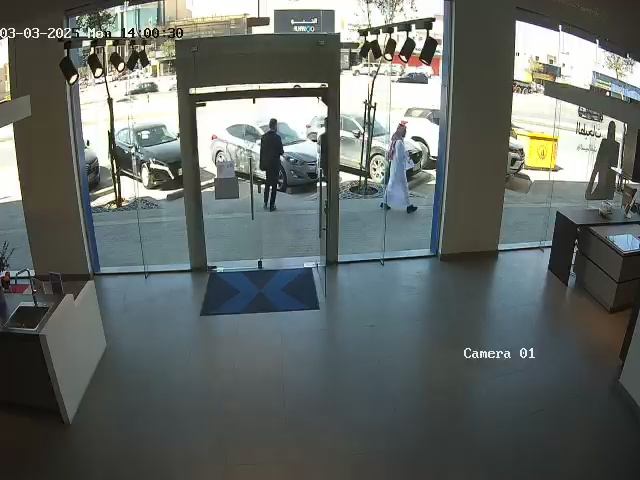employee: (259, 118, 284, 212)
male: (380, 121, 418, 213)
